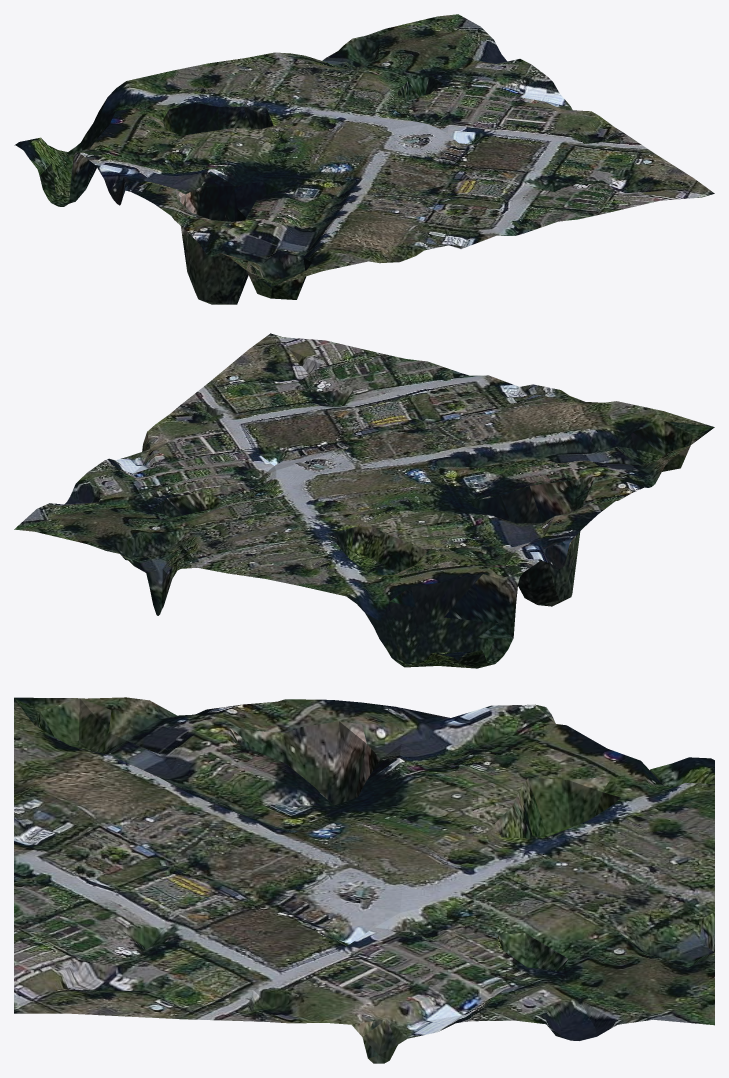
The model's file is map_15_8176_13784.dae.
3 renders of one model, top to bottom at view 1: azimuth 30°, elevation 25°; view 2: azimuth 150°, elevation 25°; view 3: azimuth 270°, elevation 25°, orthographic. The views are drawn at different scales.
Parts seen in each view (by area): view 1: Ter0; view 2: Ter0; view 3: Ter0.
Boxes of the visible parts, x1,y1,x2,y2 form: Ter0: [14, 14, 714, 304]; Ter0: [14, 333, 714, 668]; Ter0: [14, 697, 714, 1063].
Size of the model in its own units: 63.88 by 63.88 by 15.73.
Materials: 2 (2 with a texture image).
